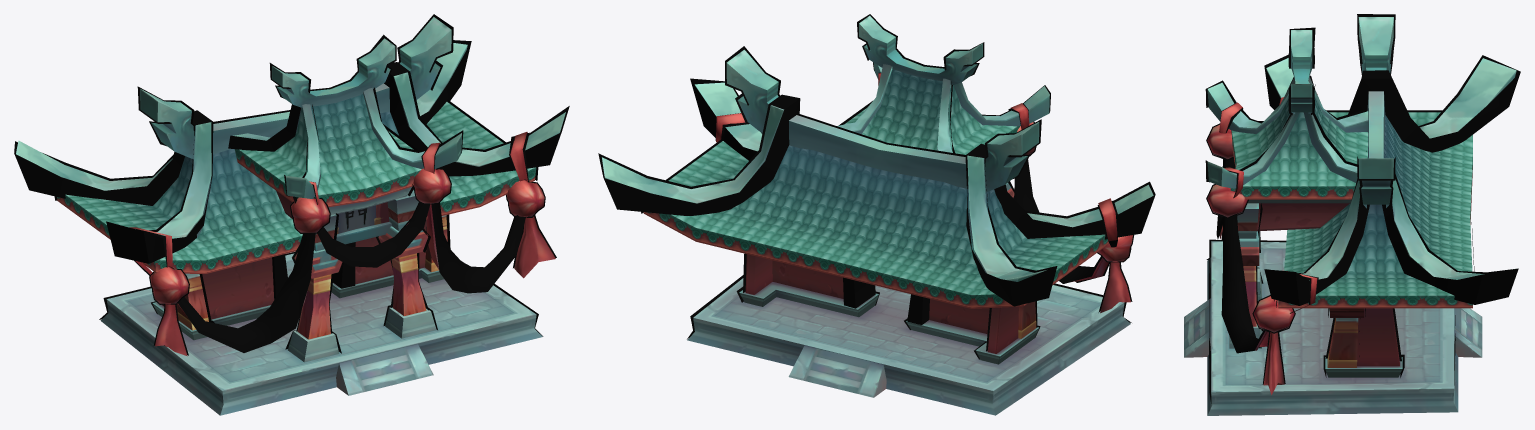
File: mian_house.FBX
The picture shows the model from 3 angles, left to right: view 1: azimuth 30°, elevation 25°; view 2: azimuth 150°, elevation 25°; view 3: azimuth 270°, elevation 25°; orthographic projection.
Visible parts, largest first — view 1: zjm_zhengmen_01_01, zjm_zhengmen_01_01_ol; view 2: zjm_zhengmen_01_01, zjm_zhengmen_01_01_ol; view 3: zjm_zhengmen_01_01, zjm_zhengmen_01_01_ol.
Part boxes in pixels (x1=…): zjm_zhengmen_01_01: x1=16, y1=17, x2=565, y2=415; zjm_zhengmen_01_01_ol: x1=14, y1=14, x2=569, y2=355; zjm_zhengmen_01_01: x1=602, y1=15, x2=1153, y2=415; zjm_zhengmen_01_01_ol: x1=598, y1=14, x2=1155, y2=359; zjm_zhengmen_01_01: x1=1184, y1=17, x2=1516, y2=415; zjm_zhengmen_01_01_ol: x1=1205, y1=14, x2=1520, y2=403.
Size of the model in its own units: 608 by 360 by 388.
3 materials, 2 textured.
